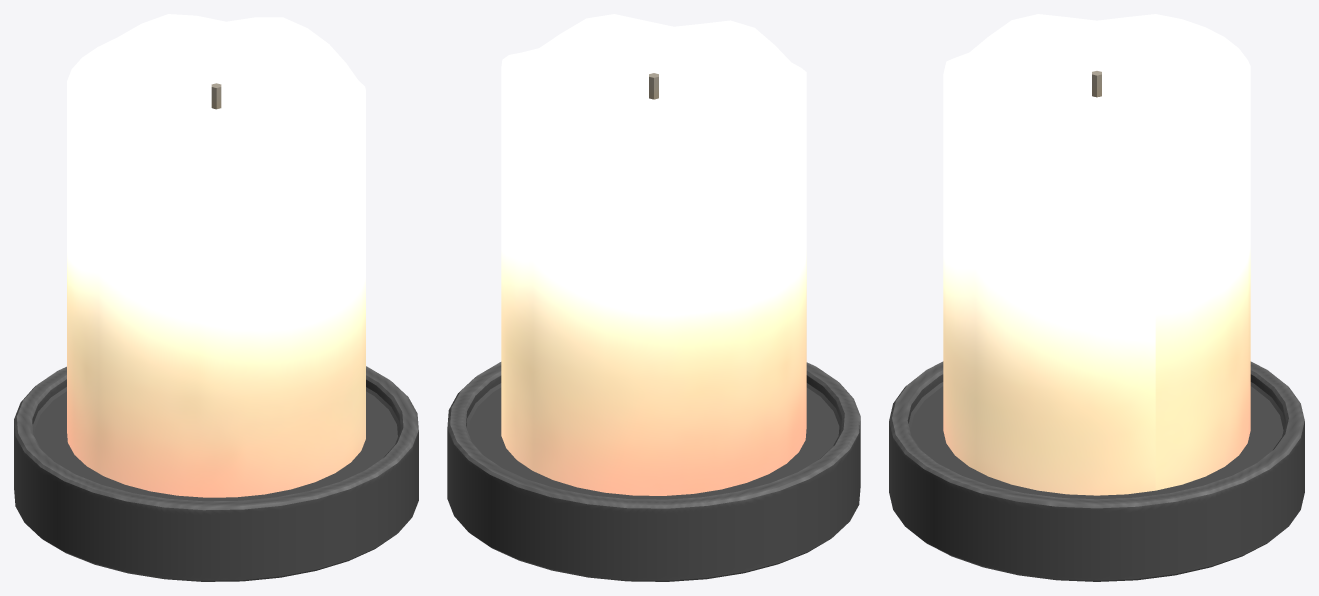
File: SM_VaxCandle.fbx
3 renders of one model, left to right at view 1: azimuth 30°, elevation 25°; view 2: azimuth 150°, elevation 25°; view 3: azimuth 270°, elevation 25°, orthographic. The views are drawn at different scales.
Parts seen in each view (by area): view 1: SM_VaxCandle_LOD0; view 2: SM_VaxCandle_LOD0; view 3: SM_VaxCandle_LOD0.
Part boxes in pixels (bbox=[...]): SM_VaxCandle_LOD0: bbox=[14, 14, 418, 581]; SM_VaxCandle_LOD0: bbox=[447, 14, 860, 581]; SM_VaxCandle_LOD0: bbox=[889, 14, 1304, 581].
Bounding box in the file's own units: 21.4 × 21.4 × 24.66.
1 material, 1 textured.
